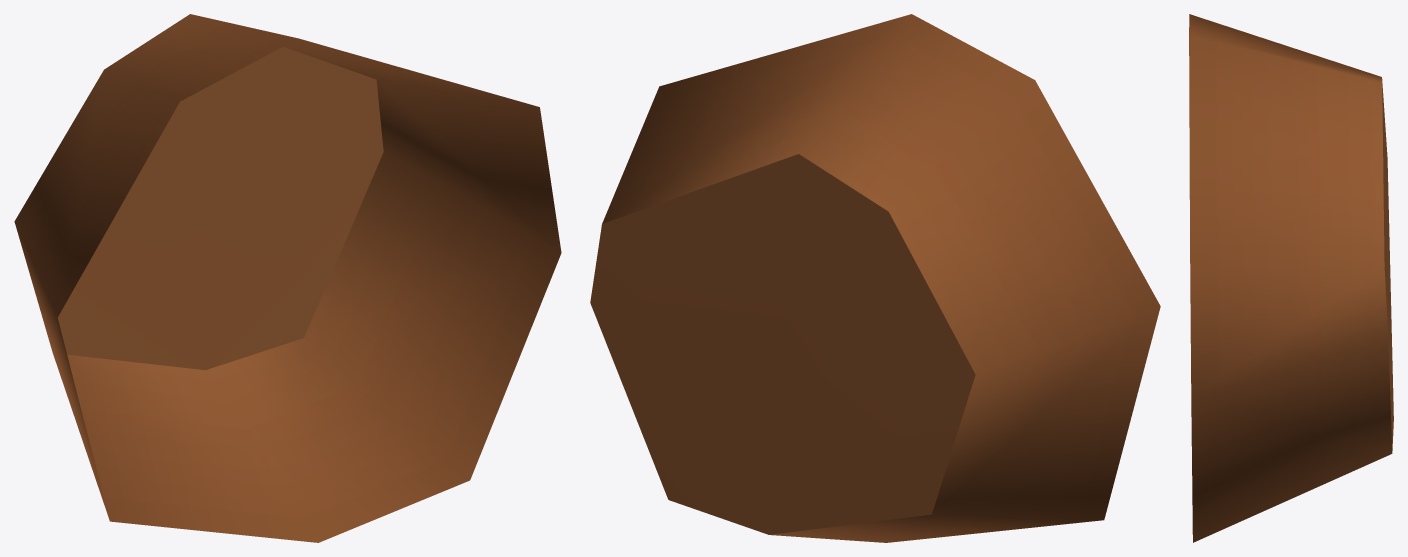
File: Stone 01.FBX
The picture shows the model from 3 angles, left to right: view 1: azimuth 30°, elevation 25°; view 2: azimuth 150°, elevation 25°; view 3: azimuth 270°, elevation 25°; orthographic projection. The views are drawn at different scales.
Visible parts, largest first — view 1: Stone 01; view 2: Stone 01; view 3: Stone 01.
Part boxes in pixels (x1,y1,x2,y2): Stone 01: [14, 14, 561, 542]; Stone 01: [590, 14, 1160, 542]; Stone 01: [1189, 14, 1393, 542].
Bounding box in the file's own units: 65.32 × 63.34 × 25.82.
1 material, 1 textured.
